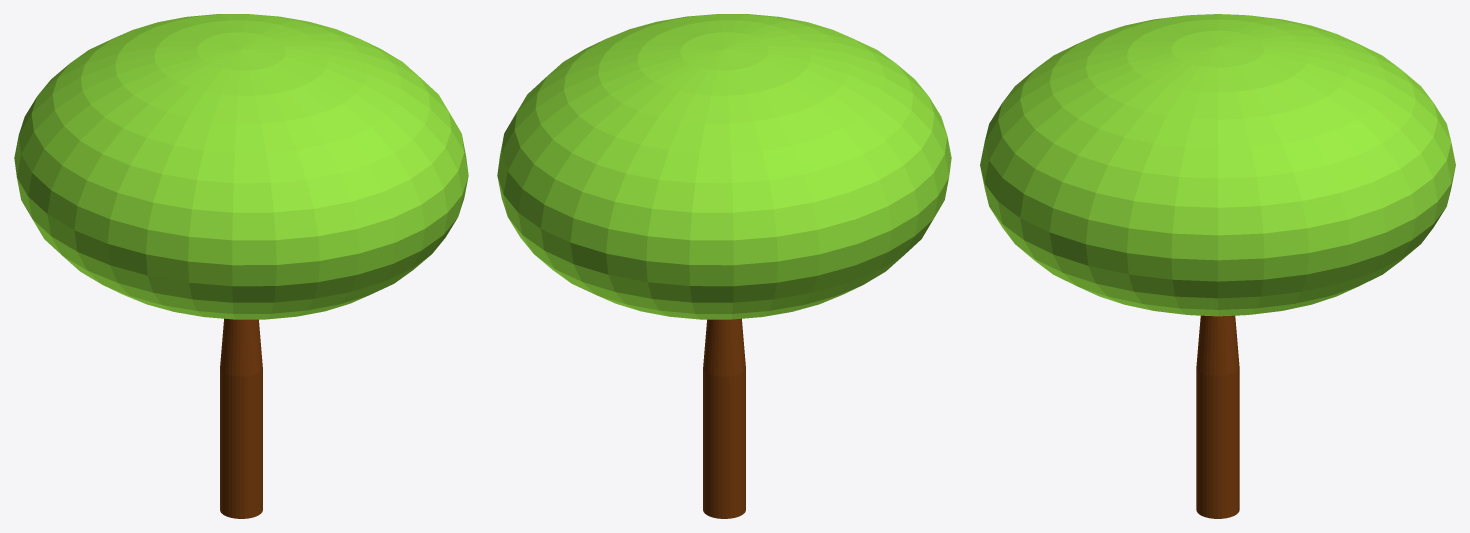
Rendered from tree.fbx.
The picture shows the model from 3 angles, left to right: view 1: azimuth 30°, elevation 25°; view 2: azimuth 150°, elevation 25°; view 3: azimuth 270°, elevation 25°; orthographic projection.
Parts seen in each view (by area): view 1: Kula, Walec; view 2: Kula, Walec; view 3: Kula, Walec.
Boxes of the visible parts, x1=… form: Kula: x1=14, y1=14, x2=468, y2=319; Walec: x1=220, y1=318, x2=262, y2=518; Kula: x1=497, y1=14, x2=951, y2=319; Walec: x1=703, y1=318, x2=745, y2=518; Kula: x1=980, y1=14, x2=1455, y2=316; Walec: x1=1196, y1=315, x2=1239, y2=518.
Size of the model in its own units: 2087 by 2367 by 2206.
